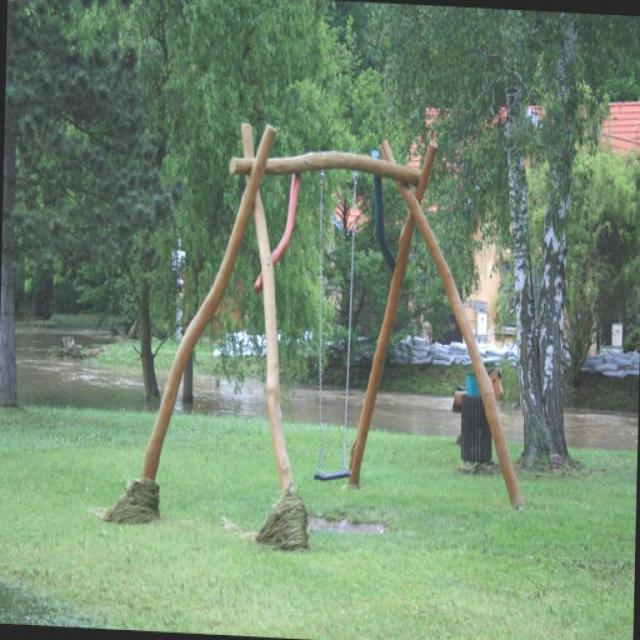flood: (14, 338, 639, 438)
